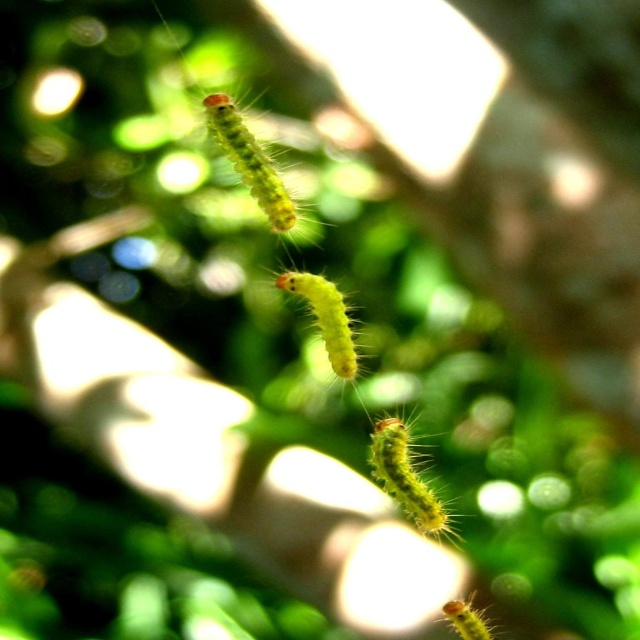Caterpillar: (181, 76, 332, 253), (246, 252, 378, 426), (370, 396, 454, 550), (431, 592, 509, 640)
